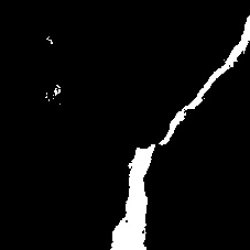crack: (160, 18, 249, 146), (111, 144, 155, 247)
pinhole: (54, 85, 61, 95), (45, 38, 53, 45)
